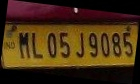character: (17, 31, 31, 59), (31, 32, 43, 59), (58, 31, 70, 58), (122, 31, 134, 57), (87, 32, 99, 57), (46, 32, 57, 58), (111, 32, 122, 57), (75, 32, 85, 58), (100, 31, 110, 57)
